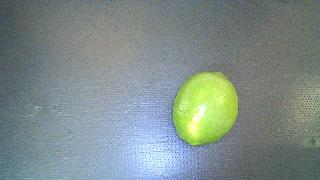EXPORTACION: (173, 71, 238, 145)
